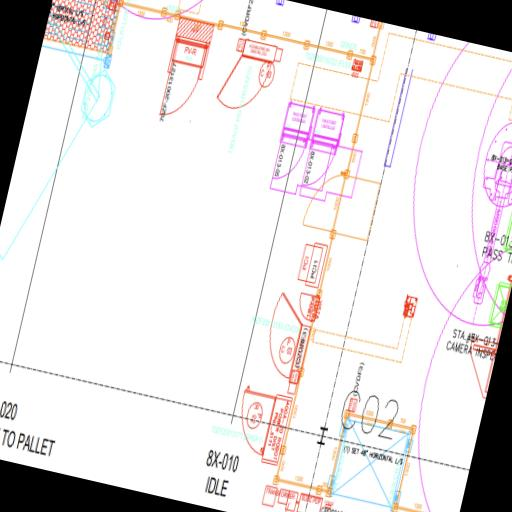robot: (451, 112, 512, 313)
